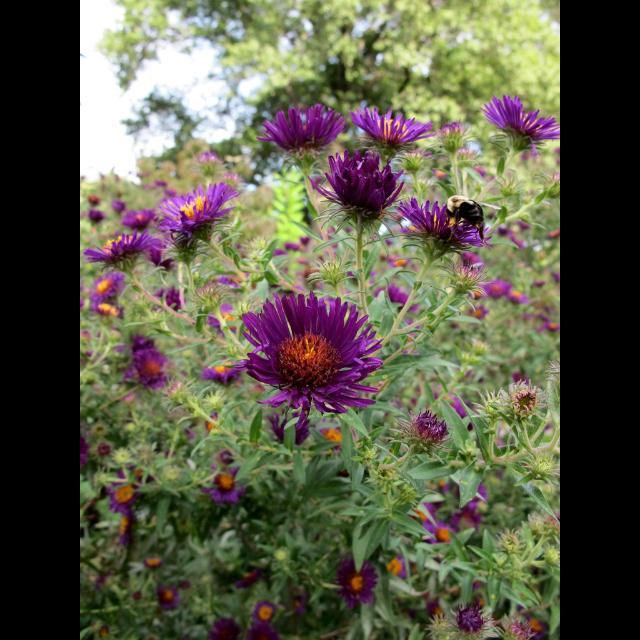Flower: (232, 282, 390, 434), (306, 146, 400, 226), (396, 192, 492, 254), (484, 92, 560, 160), (157, 180, 239, 242), (256, 104, 344, 156), (346, 102, 439, 150), (326, 556, 376, 612), (86, 226, 152, 266), (196, 456, 244, 506), (372, 279, 420, 317), (103, 471, 141, 515), (87, 268, 127, 308), (128, 350, 174, 384), (406, 496, 440, 534), (150, 285, 188, 315), (207, 302, 236, 341), (410, 412, 448, 441), (448, 508, 482, 534), (200, 365, 238, 387), (206, 617, 244, 639), (158, 582, 184, 612), (380, 556, 410, 582), (458, 251, 484, 281), (120, 513, 140, 551), (252, 597, 278, 625), (84, 300, 118, 320), (244, 622, 278, 640), (480, 280, 512, 298), (458, 482, 487, 500), (131, 328, 155, 348), (466, 302, 489, 322), (432, 523, 452, 545), (507, 286, 528, 306), (80, 430, 90, 466), (143, 554, 161, 570)
